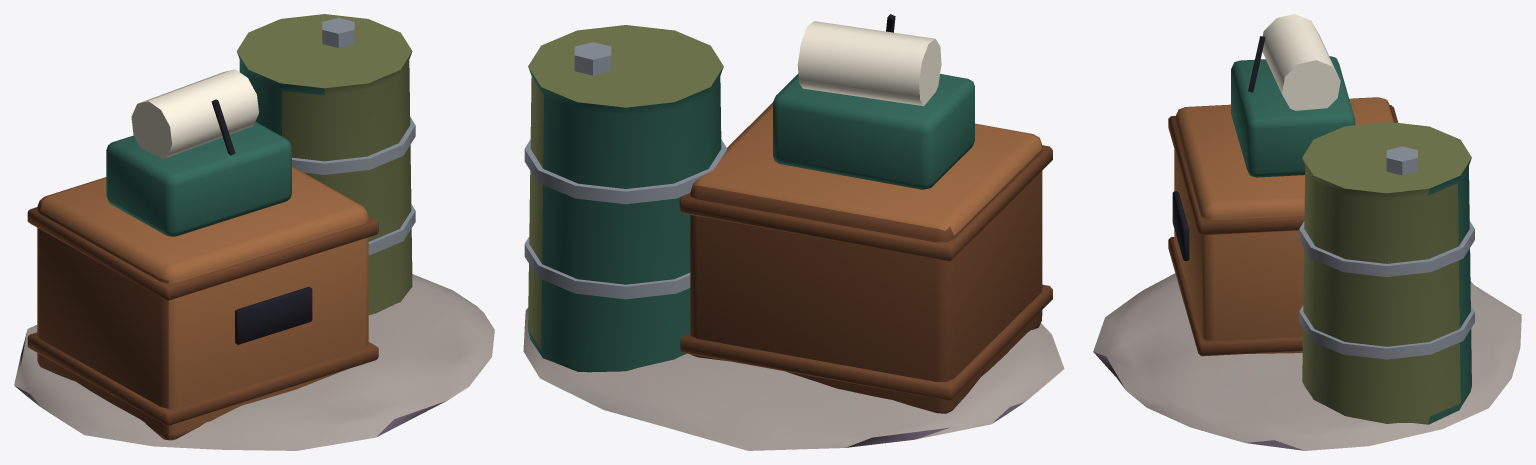
File: SurveyCrates.fbx
3 views of the same model, side by side, from view 1: azimuth 30°, elevation 25°; view 2: azimuth 150°, elevation 25°; view 3: azimuth 270°, elevation 25° (orthographic). The views are drawn at different scales.
Visible parts, largest first — view 1: SurveyCrates; view 2: SurveyCrates; view 3: SurveyCrates.
Boxes of the visible parts, box(x1,y1,x2,y2) form: SurveyCrates: box(14, 14, 494, 450); SurveyCrates: box(523, 14, 1064, 450); SurveyCrates: box(1093, 14, 1521, 450).
Size of the model in its own units: 1.58 by 1.02 by 1.41.
Materials: 1 (1 with a texture image).
